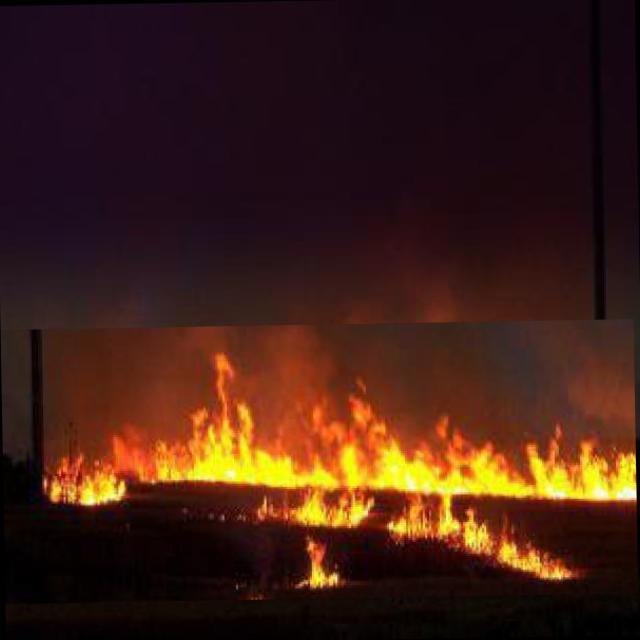fire: (0, 318, 638, 604)
